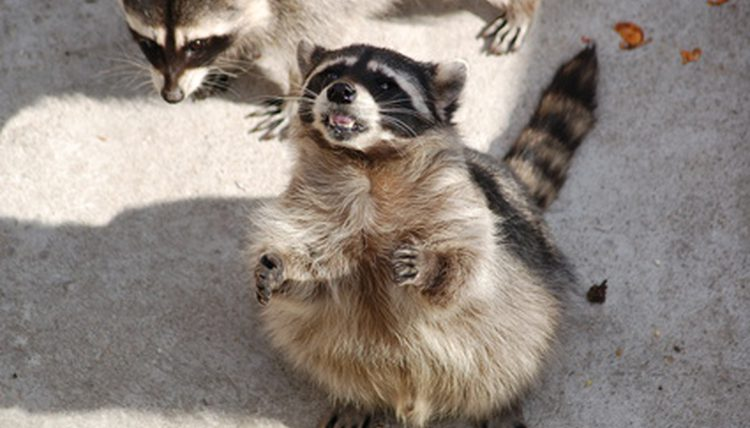raccoon: (264, 41, 613, 428)
